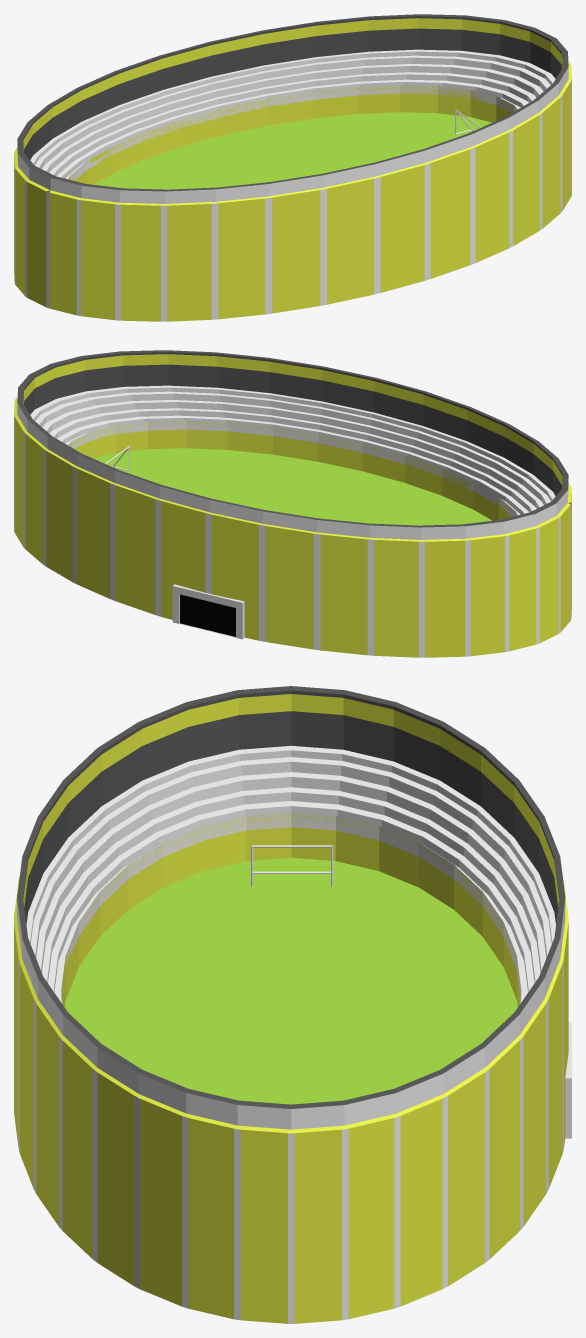
Rendered from Stadium.fbx.
The picture shows the model from 3 angles, top to bottom: view 1: azimuth 30°, elevation 25°; view 2: azimuth 150°, elevation 25°; view 3: azimuth 270°, elevation 25°; orthographic projection. The views are drawn at different scales.
Visible parts, largest first — view 1: Cylinder; view 2: Cylinder, Cube; view 3: Cylinder.
Part boxes in pixels (left/top/right/bottom): Cylinder: left=14, top=14, right=571, bottom=321; Cylinder: left=14, top=350, right=571, bottom=657; Cube: left=172, top=584, right=244, bottom=639; Cylinder: left=14, top=686, right=568, bottom=1323.
Bounding box in the file's own units: 15087 × 3513 × 8316.
